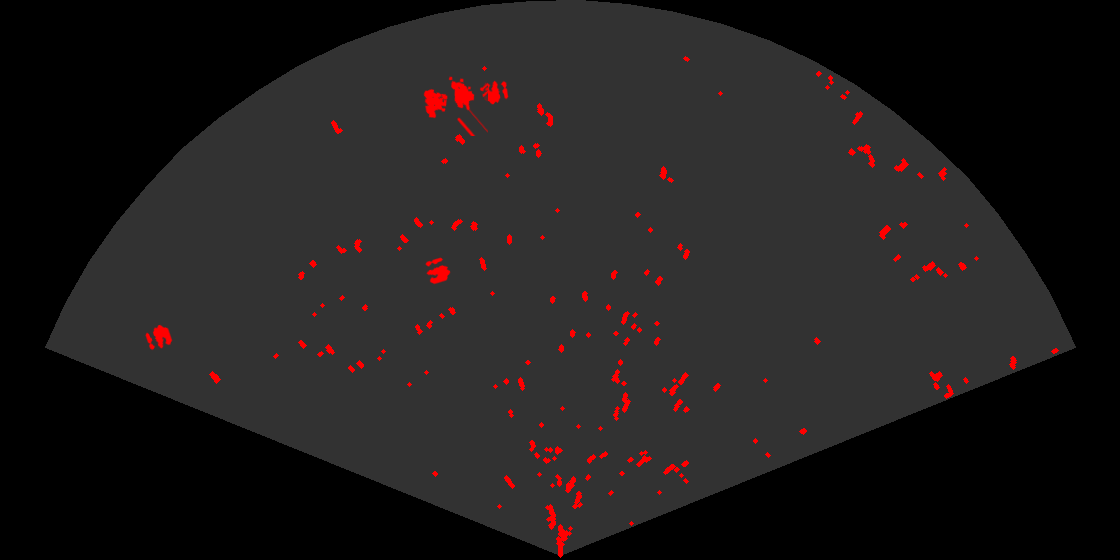ball: (144, 323, 174, 352), (424, 256, 452, 286), (481, 79, 510, 106)
cage: (422, 75, 488, 136)
